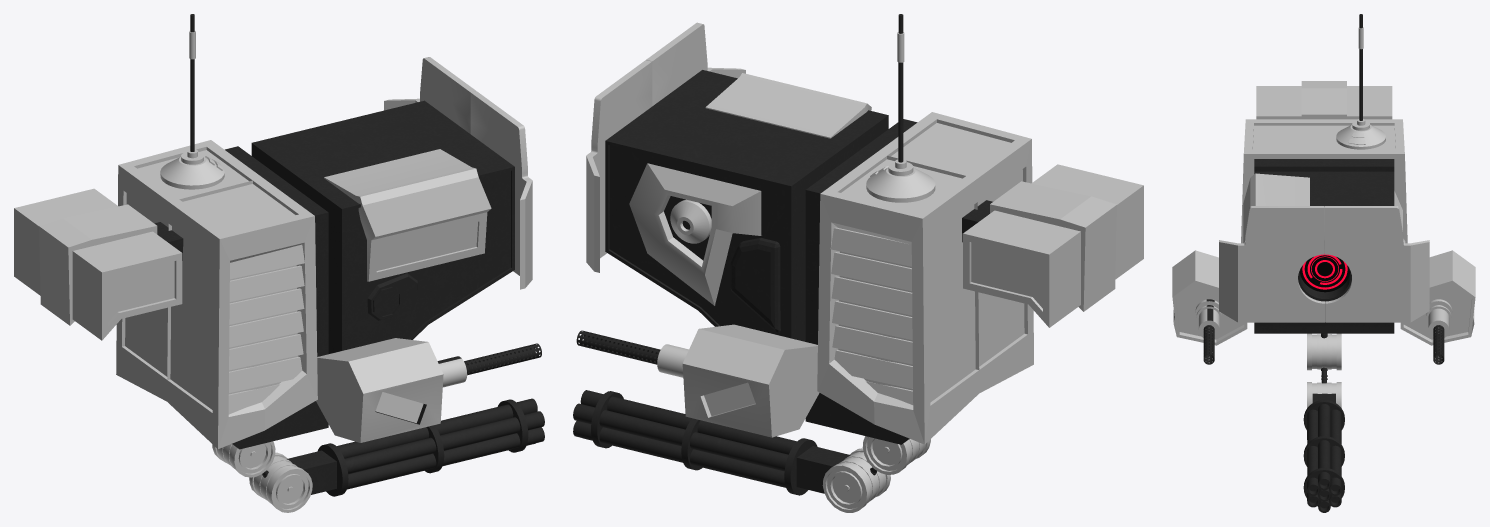
Rendered from Robot.fbx.
The picture shows the model from 3 angles, left to right: view 1: azimuth 30°, elevation 25°; view 2: azimuth 150°, elevation 25°; view 3: azimuth 270°, elevation 25°; orthographic projection. The views are drawn at different scales.
Parts seen in each view (by area): view 1: Cube, Cube.001; view 2: Cube, Cube.001; view 3: Cube, Cube.001.
Boxes of the visible parts, x1,y1,x2,y2 form: Cube: [14, 14, 544, 512]; Cube.001: [384, 57, 532, 289]; Cube: [573, 14, 1143, 512]; Cube.001: [586, 22, 745, 272]; Cube: [1172, 14, 1475, 512]; Cube.001: [1219, 206, 1429, 322].
Bounding box in the file's own units: 1197 × 1167 × 844.
